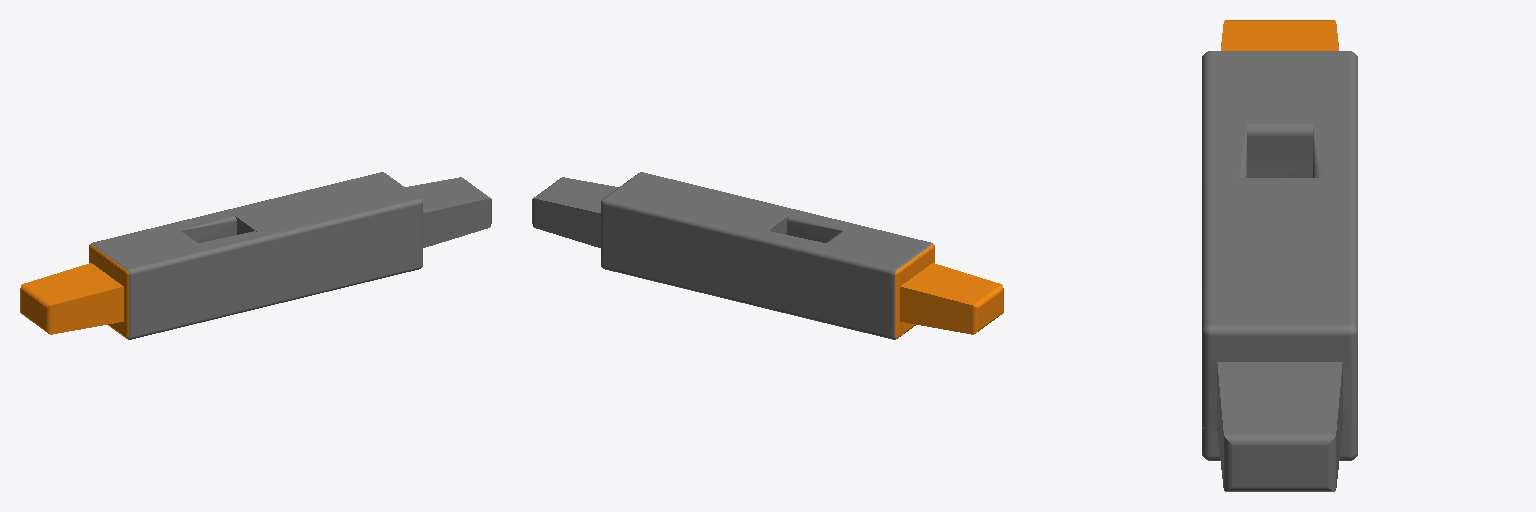
robot.urdf — beam_2x_2_sdf_hybrid:
<?xml version="1.0" encoding="utf-8"?>
<robot name="beam_2x_2_sdf_hybrid">
  <link name="base_link">
    <inertial>
      <mass value="0.05"/>
      <inertia ixx="1e-5" ixy="0" ixz="0" iyy="1e-5" iyz="0" izz="1e-5"/>
    </inertial>
  </link>
  <material name="tip">
    <color rgba="0.95 0.55 0.10 1.0"/>
  </material>
  <material name="body">
    <color rgba="0.50 0.50 0.50 1.0"/>
  </material>
  <link name="tip_link">
    <visual>
      <origin xyz="0.000000 0.000000 0.000000" rpy="0.000000 0.000000 0.000000"/>
      <geometry>
        <mesh filename="2_tip.obj" scale="1 1 1"/>
      </geometry>
      <material name="tip"/>
    </visual>
    <collision>
      <origin xyz="0.000000 0.000000 0.000000" rpy="0.000000 0.000000 0.000000"/>
      <geometry>
        <mesh filename="2_tip.obj" scale="1 1 1"/>
      </geometry>
      <sdf resolution="256"/>
    </collision>
  </link>
  <joint name="base_to_tip" type="fixed">
    <parent link="base_link"/>
    <child link="tip_link"/>
    <origin xyz="0 0 0" rpy="0 0 0"/>
  </joint>
  <link name="body_link">
    <visual>
      <origin xyz="0.000000 0.000000 0.000000" rpy="0.000000 0.000000 0.000000"/>
      <geometry>
        <mesh filename="coacd/decomp_0.obj" scale="1 1 1"/>
      </geometry>
      <material name="body"/>
    </visual>
    <collision>
      <origin xyz="0.000000 0.000000 0.000000" rpy="0.000000 0.000000 0.000000"/>
      <geometry>
        <mesh filename="coacd/decomp_0.obj" scale="1 1 1"/>
      </geometry>
    </collision>
    <visual>
      <origin xyz="0.000000 0.000000 0.000000" rpy="0.000000 0.000000 0.000000"/>
      <geometry>
        <mesh filename="coacd/decomp_1.obj" scale="1 1 1"/>
      </geometry>
      <material name="body"/>
    </visual>
    <collision>
      <origin xyz="0.000000 0.000000 0.000000" rpy="0.000000 0.000000 0.000000"/>
      <geometry>
        <mesh filename="coacd/decomp_1.obj" scale="1 1 1"/>
      </geometry>
    </collision>
    <visual>
      <origin xyz="0.000000 0.000000 0.000000" rpy="0.000000 0.000000 0.000000"/>
      <geometry>
        <mesh filename="coacd/decomp_10.obj" scale="1 1 1"/>
      </geometry>
      <material name="body"/>
    </visual>
    <collision>
      <origin xyz="0.000000 0.000000 0.000000" rpy="0.000000 0.000000 0.000000"/>
      <geometry>
        <mesh filename="coacd/decomp_10.obj" scale="1 1 1"/>
      </geometry>
    </collision>
    <visual>
      <origin xyz="0.000000 0.000000 0.000000" rpy="0.000000 0.000000 0.000000"/>
      <geometry>
        <mesh filename="coacd/decomp_11.obj" scale="1 1 1"/>
      </geometry>
      <material name="body"/>
    </visual>
    <collision>
      <origin xyz="0.000000 0.000000 0.000000" rpy="0.000000 0.000000 0.000000"/>
      <geometry>
        <mesh filename="coacd/decomp_11.obj" scale="1 1 1"/>
      </geometry>
    </collision>
    <visual>
      <origin xyz="0.000000 0.000000 0.000000" rpy="0.000000 0.000000 0.000000"/>
      <geometry>
        <mesh filename="coacd/decomp_12.obj" scale="1 1 1"/>
      </geometry>
      <material name="body"/>
    </visual>
    <collision>
      <origin xyz="0.000000 0.000000 0.000000" rpy="0.000000 0.000000 0.000000"/>
      <geometry>
        <mesh filename="coacd/decomp_12.obj" scale="1 1 1"/>
      </geometry>
    </collision>
    <visual>
      <origin xyz="0.000000 0.000000 0.000000" rpy="0.000000 0.000000 0.000000"/>
      <geometry>
        <mesh filename="coacd/decomp_13.obj" scale="1 1 1"/>
      </geometry>
      <material name="body"/>
    </visual>
    <collision>
      <origin xyz="0.000000 0.000000 0.000000" rpy="0.000000 0.000000 0.000000"/>
      <geometry>
        <mesh filename="coacd/decomp_13.obj" scale="1 1 1"/>
      </geometry>
    </collision>
    <visual>
      <origin xyz="0.000000 0.000000 0.000000" rpy="0.000000 0.000000 0.000000"/>
      <geometry>
        <mesh filename="coacd/decomp_14.obj" scale="1 1 1"/>
      </geometry>
      <material name="body"/>
    </visual>
    <collision>
      <origin xyz="0.000000 0.000000 0.000000" rpy="0.000000 0.000000 0.000000"/>
      <geometry>
        <mesh filename="coacd/decomp_14.obj" scale="1 1 1"/>
      </geometry>
    </collision>
    <visual>
      <origin xyz="0.000000 0.000000 0.000000" rpy="0.000000 0.000000 0.000000"/>
      <geometry>
        <mesh filename="coacd/decomp_15.obj" scale="1 1 1"/>
      </geometry>
      <material name="body"/>
    </visual>
    <collision>
      <origin xyz="0.000000 0.000000 0.000000" rpy="0.000000 0.000000 0.000000"/>
      <geometry>
        <mesh filename="coacd/decomp_15.obj" scale="1 1 1"/>
      </geometry>
    </collision>
    <visual>
      <origin xyz="0.000000 0.000000 0.000000" rpy="0.000000 0.000000 0.000000"/>
      <geometry>
        <mesh filename="coacd/decomp_16.obj" scale="1 1 1"/>
      </geometry>
      <material name="body"/>
    </visual>
    <collision>
      <origin xyz="0.000000 0.000000 0.000000" rpy="0.000000 0.000000 0.000000"/>
      <geometry>
        <mesh filename="coacd/decomp_16.obj" scale="1 1 1"/>
      </geometry>
    </collision>
    <visual>
      <origin xyz="0.000000 0.000000 0.000000" rpy="0.000000 0.000000 0.000000"/>
      <geometry>
        <mesh filename="coacd/decomp_2.obj" scale="1 1 1"/>
      </geometry>
      <material name="body"/>
    </visual>
    <collision>
      <origin xyz="0.000000 0.000000 0.000000" rpy="0.000000 0.000000 0.000000"/>
      <geometry>
        <mesh filename="coacd/decomp_2.obj" scale="1 1 1"/>
      </geometry>
    </collision>
    <visual>
      <origin xyz="0.000000 0.000000 0.000000" rpy="0.000000 0.000000 0.000000"/>
      <geometry>
        <mesh filename="coacd/decomp_3.obj" scale="1 1 1"/>
      </geometry>
      <material name="body"/>
    </visual>
    <collision>
      <origin xyz="0.000000 0.000000 0.000000" rpy="0.000000 0.000000 0.000000"/>
      <geometry>
        <mesh filename="coacd/decomp_3.obj" scale="1 1 1"/>
      </geometry>
    </collision>
    <visual>
      <origin xyz="0.000000 0.000000 0.000000" rpy="0.000000 0.000000 0.000000"/>
      <geometry>
        <mesh filename="coacd/decomp_4.obj" scale="1 1 1"/>
      </geometry>
      <material name="body"/>
    </visual>
    <collision>
      <origin xyz="0.000000 0.000000 0.000000" rpy="0.000000 0.000000 0.000000"/>
      <geometry>
        <mesh filename="coacd/decomp_4.obj" scale="1 1 1"/>
      </geometry>
    </collision>
    <visual>
      <origin xyz="0.000000 0.000000 0.000000" rpy="0.000000 0.000000 0.000000"/>
      <geometry>
        <mesh filename="coacd/decomp_5.obj" scale="1 1 1"/>
      </geometry>
      <material name="body"/>
    </visual>
    <collision>
      <origin xyz="0.000000 0.000000 0.000000" rpy="0.000000 0.000000 0.000000"/>
      <geometry>
        <mesh filename="coacd/decomp_5.obj" scale="1 1 1"/>
      </geometry>
    </collision>
    <visual>
      <origin xyz="0.000000 0.000000 0.000000" rpy="0.000000 0.000000 0.000000"/>
      <geometry>
        <mesh filename="coacd/decomp_6.obj" scale="1 1 1"/>
      </geometry>
      <material name="body"/>
    </visual>
    <collision>
      <origin xyz="0.000000 0.000000 0.000000" rpy="0.000000 0.000000 0.000000"/>
      <geometry>
        <mesh filename="coacd/decomp_6.obj" scale="1 1 1"/>
      </geometry>
    </collision>
    <visual>
      <origin xyz="0.000000 0.000000 0.000000" rpy="0.000000 0.000000 0.000000"/>
      <geometry>
        <mesh filename="coacd/decomp_7.obj" scale="1 1 1"/>
      </geometry>
      <material name="body"/>
    </visual>
    <collision>
      <origin xyz="0.000000 0.000000 0.000000" rpy="0.000000 0.000000 0.000000"/>
      <geometry>
        <mesh filename="coacd/decomp_7.obj" scale="1 1 1"/>
      </geometry>
    </collision>
    <visual>
      <origin xyz="0.000000 0.000000 0.000000" rpy="0.000000 0.000000 0.000000"/>
      <geometry>
        <mesh filename="coacd/decomp_8.obj" scale="1 1 1"/>
      </geometry>
      <material name="body"/>
    </visual>
    <collision>
      <origin xyz="0.000000 0.000000 0.000000" rpy="0.000000 0.000000 0.000000"/>
      <geometry>
        <mesh filename="coacd/decomp_8.obj" scale="1 1 1"/>
      </geometry>
    </collision>
    <visual>
      <origin xyz="0.000000 0.000000 0.000000" rpy="0.000000 0.000000 0.000000"/>
      <geometry>
        <mesh filename="coacd/decomp_9.obj" scale="1 1 1"/>
      </geometry>
      <material name="body"/>
    </visual>
    <collision>
      <origin xyz="0.000000 0.000000 0.000000" rpy="0.000000 0.000000 0.000000"/>
      <geometry>
        <mesh filename="coacd/decomp_9.obj" scale="1 1 1"/>
      </geometry>
    </collision>
  </link>
  <joint name="base_to_body" type="fixed">
    <parent link="base_link"/>
    <child link="body_link"/>
    <origin xyz="0 0 0" rpy="0 0 0"/>
  </joint>
</robot>

--- Render facts (derived) ---
3 views of the same robot in one strip: view 1: azimuth 30°, elevation 25°; view 2: azimuth 150°, elevation 25°; view 3: azimuth 270°, elevation 25° (orthographic).
Robot: beam_2x_2_sdf_hybrid — 3 links, 2 joints (2 fixed); root link base_link; default pose: every joint at zero.
Visible links, largest first — view 1: body_link, tip_link; view 2: body_link, tip_link; view 3: body_link, tip_link.
Link boxes in pixels (<box>): body_link: <box>91,172,491,339</box>; tip_link: <box>20,244,128,338</box>; body_link: <box>532,172,932,339</box>; tip_link: <box>895,244,1003,338</box>; body_link: <box>1202,51,1357,491</box>; tip_link: <box>1221,20,1338,50</box>.
Bounding box of the posed robot: 0.1524 × 0.024 × 0.023 m (x, y, z).
18 mesh visuals loaded from 18 distinct referenced files (18 OBJ).
